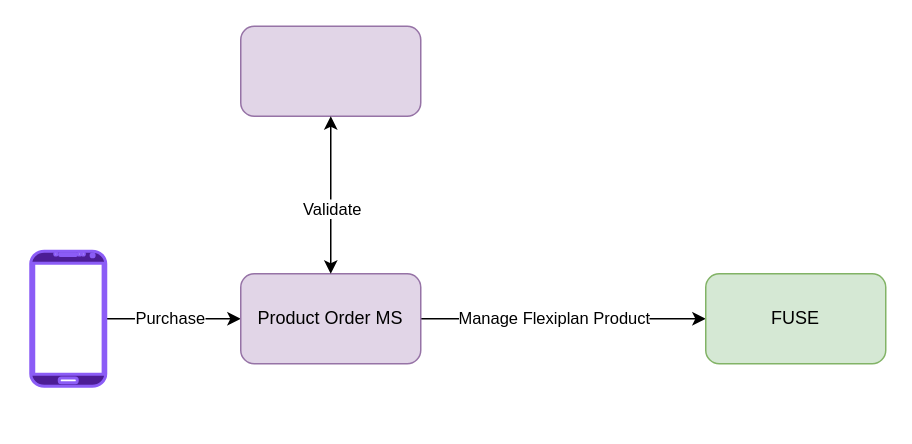
This 912x444 diagram has some shape labels left out. Each missing label, with the centre of its shape:
"Catalog MS" goes at pixel 330 70.
"MyGP App" goes at pixel 67 318.
